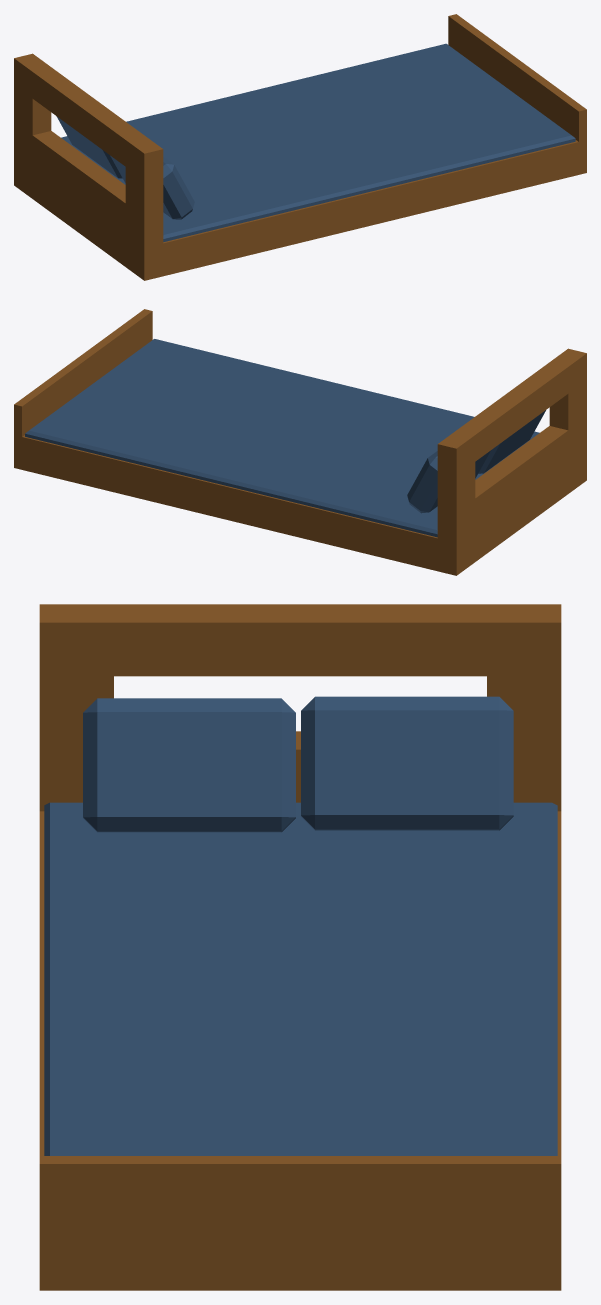
Rendered from bed6.fbx.
3 views of the same model, one above another, from view 1: azimuth 30°, elevation 25°; view 2: azimuth 150°, elevation 25°; view 3: azimuth 270°, elevation 25° (orthographic). The views are drawn at different scales.
Visible parts, largest first — view 1: Cube.024, Cube.023, Cube.025, Cube.026; view 2: Cube.024, Cube.023, Cube.026, Cube.025; view 3: Cube.024, Cube.023, Cube.025, Cube.026.
Part boxes in pixels (x1=…): Cube.024: x1=61, y1=43, x2=575, y2=241; Cube.023: x1=14, y1=14, x2=586, y2=280; Cube.025: x1=110, y1=155, x2=194, y2=219; Cube.026: x1=56, y1=116, x2=122, y2=178; Cube.024: x1=25, y1=339, x2=539, y2=537; Cube.023: x1=14, y1=309, x2=586, y2=575; Cube.026: x1=407, y1=450, x2=490, y2=513; Cube.025: x1=478, y1=410, x2=545, y2=473; Cube.024: x1=44, y1=802, x2=557, y2=1155; Cube.023: x1=39, y1=604, x2=561, y2=1290; Cube.025: x1=83, y1=698, x2=295, y2=832; Cube.026: x1=301, y1=696, x2=513, y2=830.
Size of the model in its own units: 2812 by 773 by 1436.
